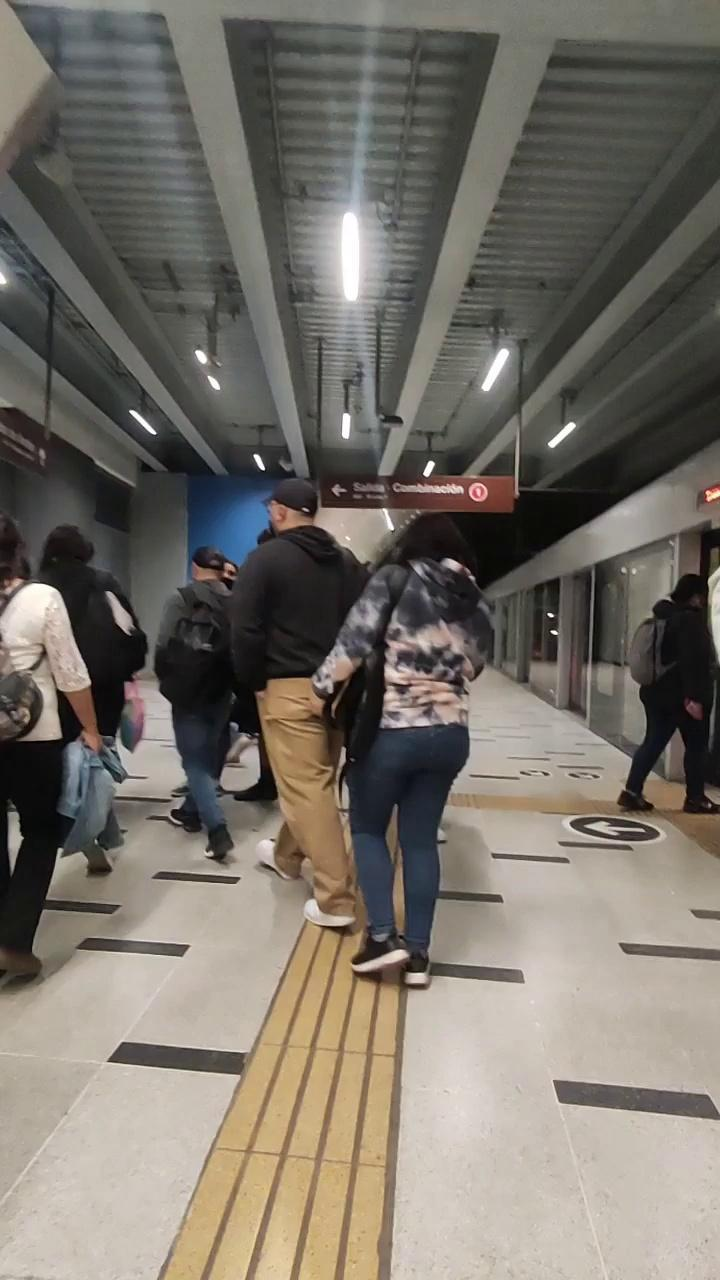left arrow: (326, 482, 350, 497)
